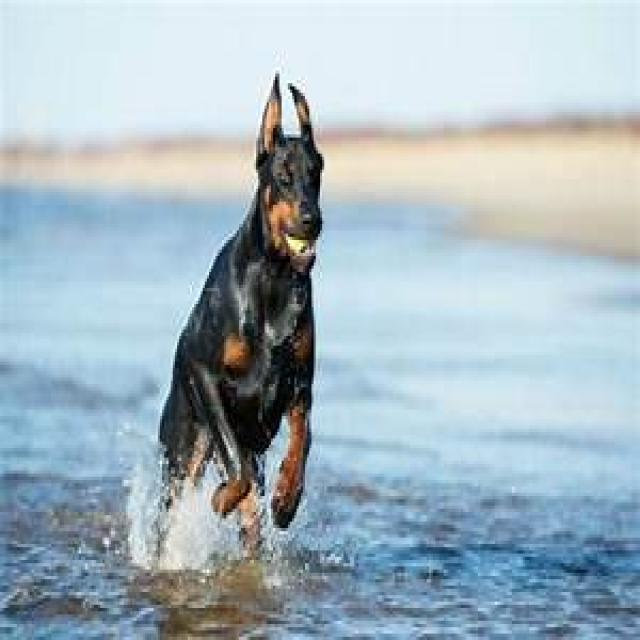dog: (150, 68, 324, 566)
